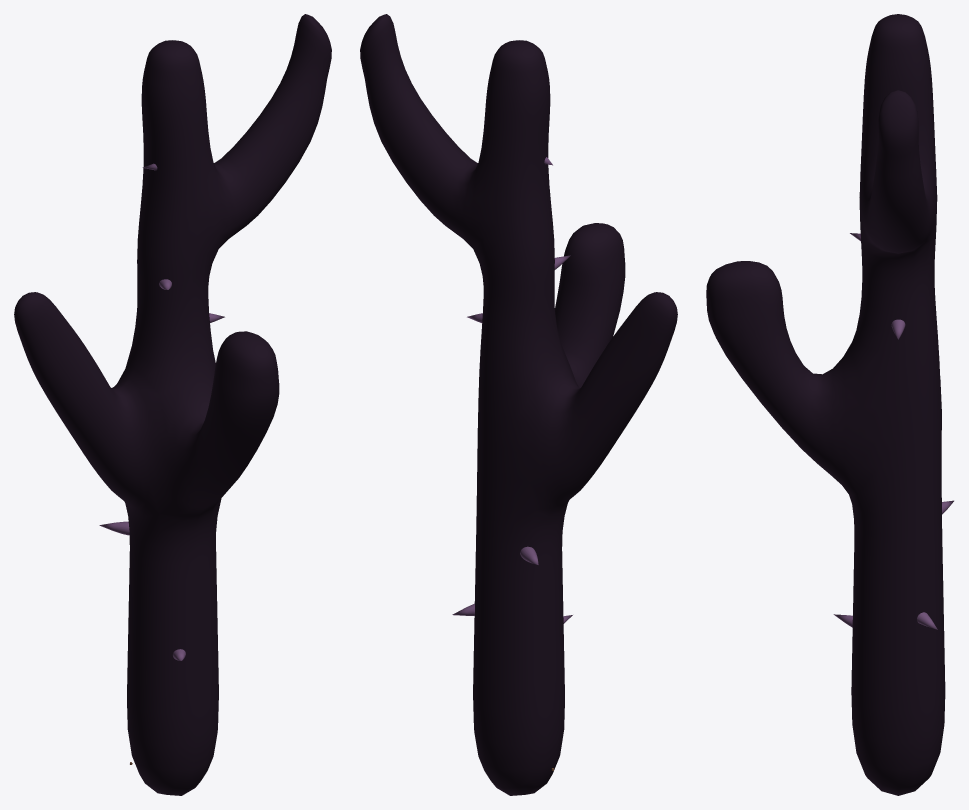
The model's file is cactus.glb.
The picture shows the model from 3 angles, left to right: view 1: azimuth 30°, elevation 25°; view 2: azimuth 150°, elevation 25°; view 3: azimuth 270°, elevation 25°; orthographic projection. The views are drawn at different scales.
Visible parts, largest first — view 1: cactus1; view 2: cactus1; view 3: cactus1.
Part boxes in pixels (x1=…): cactus1: x1=14, y1=14, x2=331, y2=795; cactus1: x1=360, y1=14, x2=677, y2=795; cactus1: x1=706, y1=14, x2=953, y2=795.
Size of the model in its own units: 1.53 by 3.51 by 1.02.
Materials: 1 (1 with a texture image).
